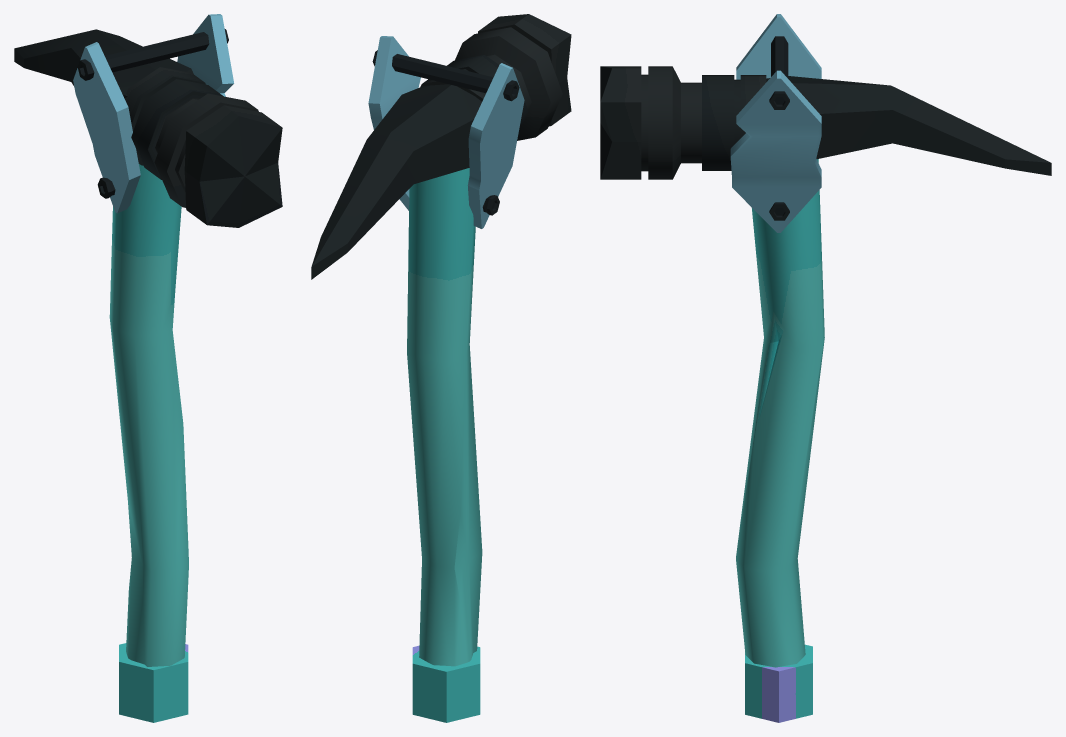
The model's file is SM_Pickaxe.fbx.
The picture shows the model from 3 angles, left to right: view 1: azimuth 30°, elevation 25°; view 2: azimuth 150°, elevation 25°; view 3: azimuth 270°, elevation 25°; orthographic projection. The views are drawn at different scales.
Visible parts, largest first — view 1: SM_Pickaxe1; view 2: SM_Pickaxe1; view 3: SM_Pickaxe1.
Boxes of the visible parts, x1=… form: SM_Pickaxe1: x1=14, y1=14, x2=282, y2=722; SM_Pickaxe1: x1=311, y1=14, x2=571, y2=722; SM_Pickaxe1: x1=600, y1=14, x2=1051, y2=722.
Size of the model in its own units: 21.04 by 96.52 by 59.58.
